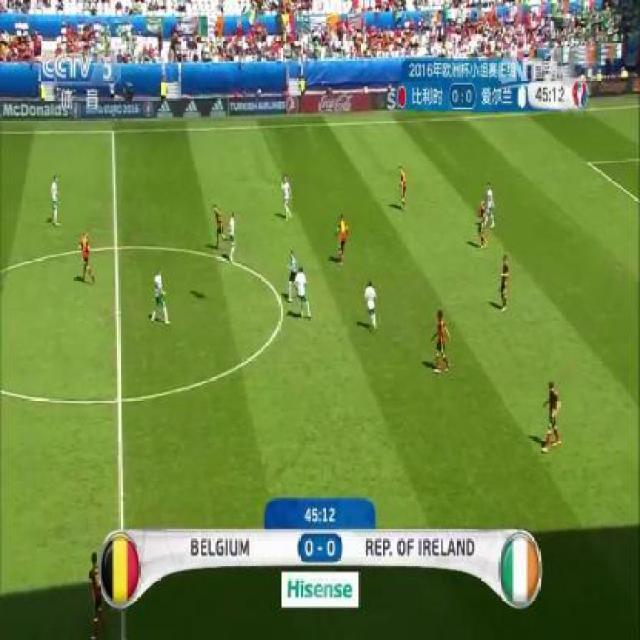player: (534, 375, 567, 451), (427, 305, 455, 380), (149, 256, 178, 328), (495, 247, 518, 319), (78, 222, 101, 291), (358, 271, 384, 332), (330, 208, 355, 269), (43, 170, 66, 228), (290, 262, 312, 315), (207, 192, 226, 251), (277, 170, 296, 223), (224, 206, 239, 269), (396, 159, 414, 210), (474, 198, 492, 248), (484, 178, 498, 227)
referee: (285, 245, 299, 297)
